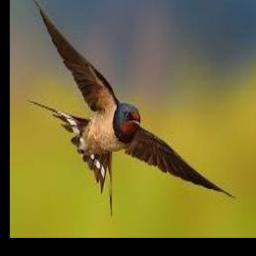Swallow: (27, 0, 235, 216)
